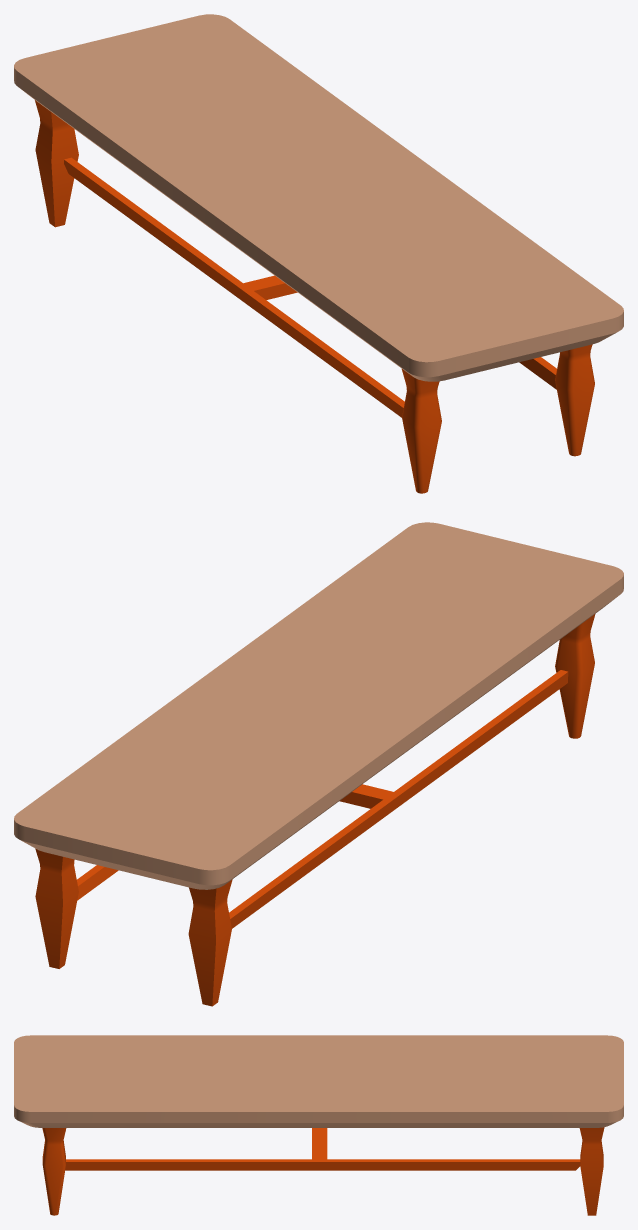
File: CoffeeTable_v1.fbx
3 views of the same model, one above another, from view 1: azimuth 30°, elevation 25°; view 2: azimuth 150°, elevation 25°; view 3: azimuth 270°, elevation 25° (orthographic). The views are drawn at different scales.
Visible parts, largest first — view 1: Coffee table; view 2: Coffee table; view 3: Coffee table.
Boxes of the visible parts, x1,y1,x2,y2 form: Coffee table: (14,14,623,493); Coffee table: (14,522,623,1006); Coffee table: (14,1035,623,1215).
Bounding box in the file's own units: 82.6 × 56.68 × 279.
